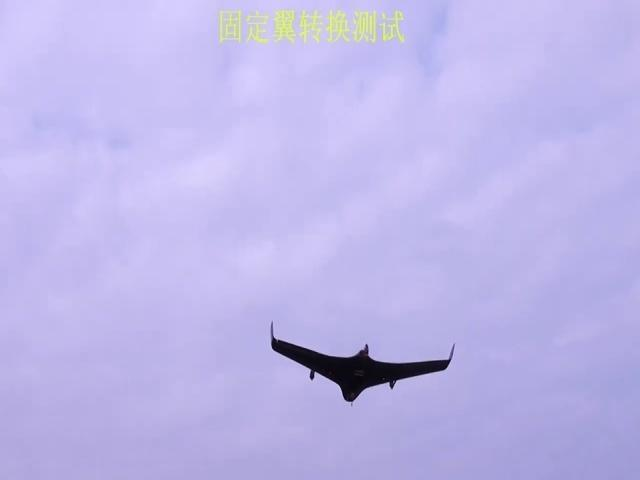Airplane: (270, 319, 455, 407)
